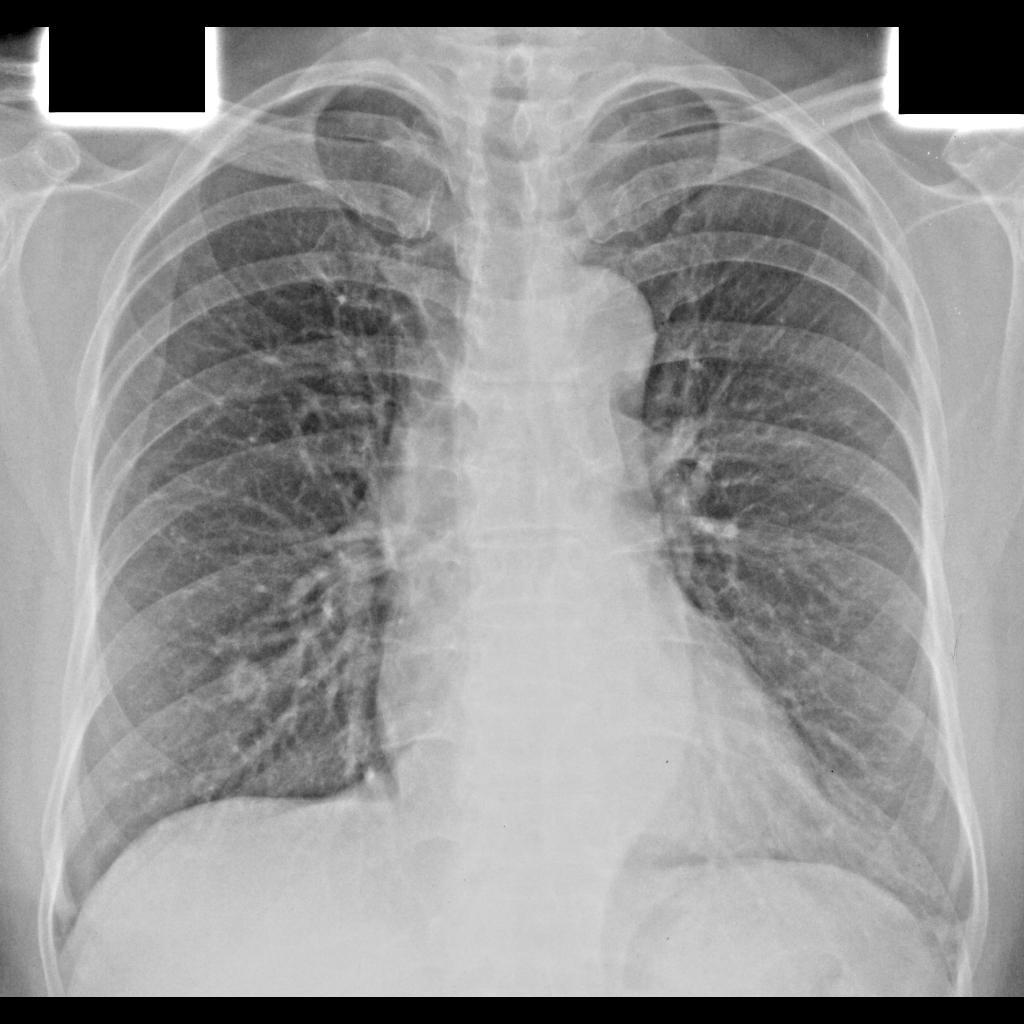Nodule: (213, 652, 267, 706)
